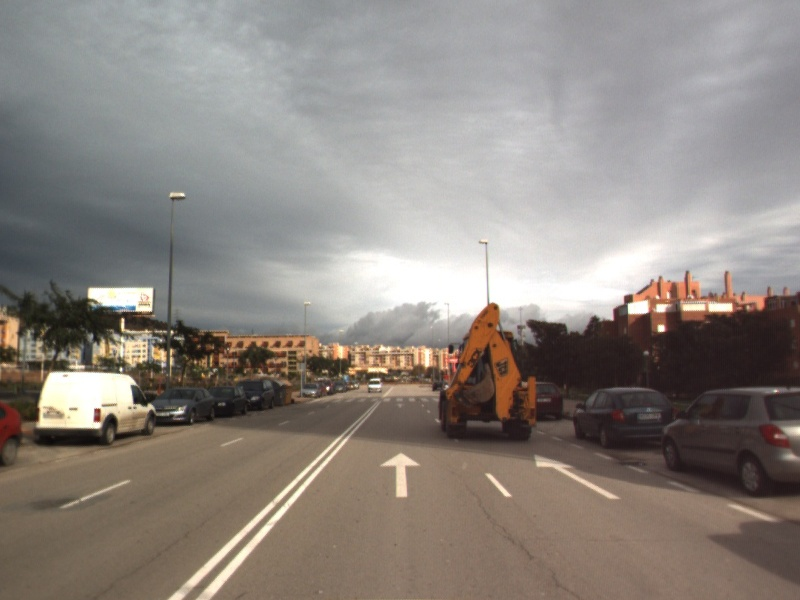STRAIGHT: (532, 452, 624, 501), (378, 450, 423, 499)
